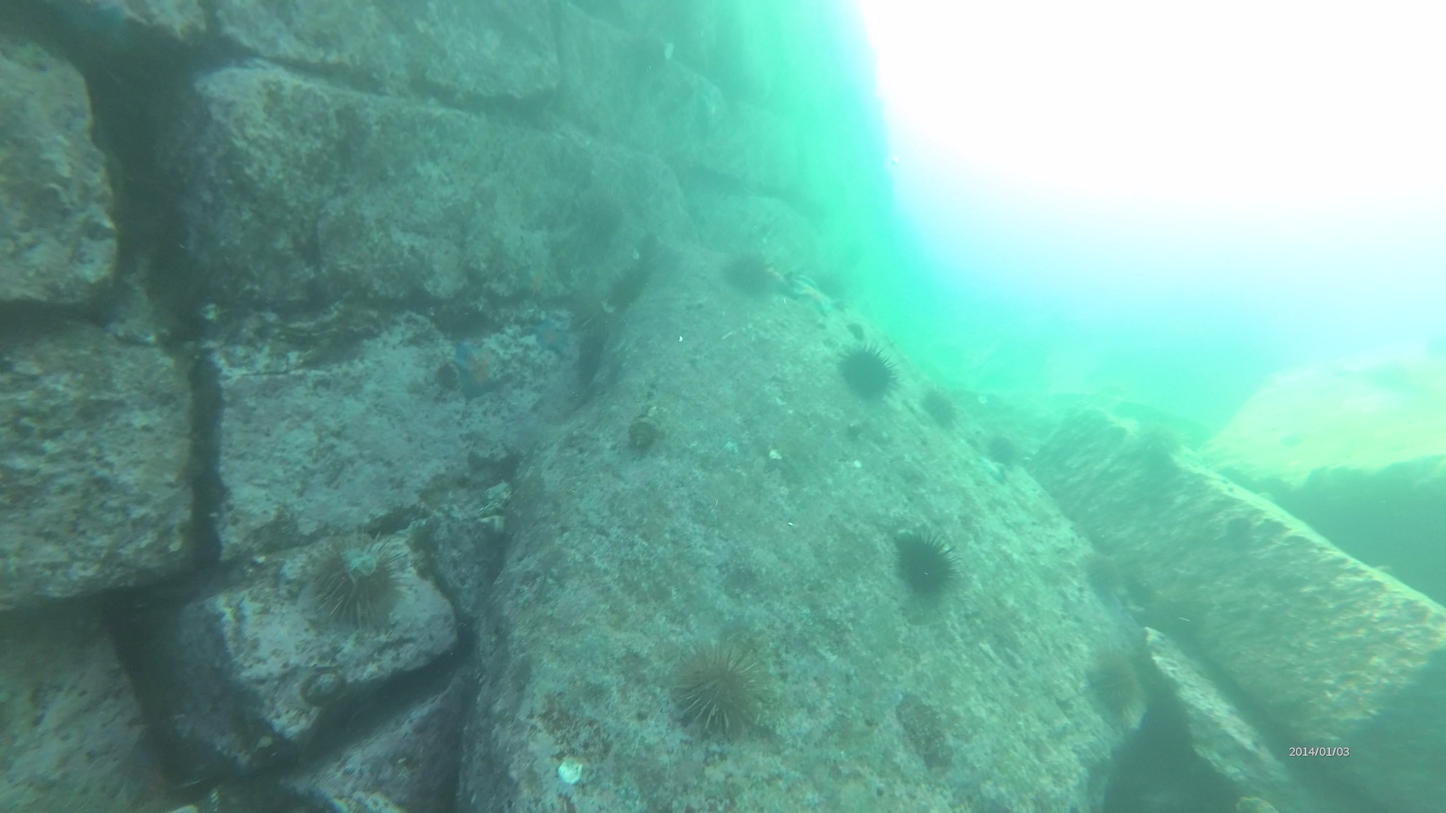holothurian: (445, 339, 508, 398), (527, 309, 572, 365)
starfish: (665, 627, 779, 738), (309, 529, 411, 625), (890, 519, 967, 597), (1086, 634, 1149, 719), (838, 335, 905, 402), (721, 246, 776, 298), (917, 382, 965, 430), (1083, 548, 1124, 594), (985, 430, 1017, 464)
